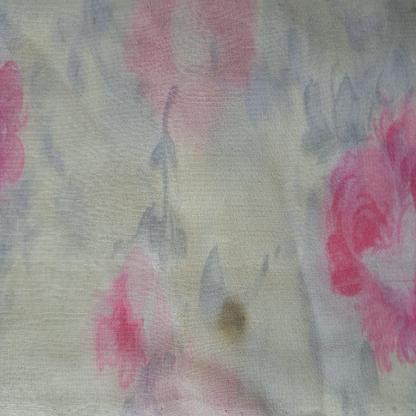spot: (212, 283, 262, 349)
